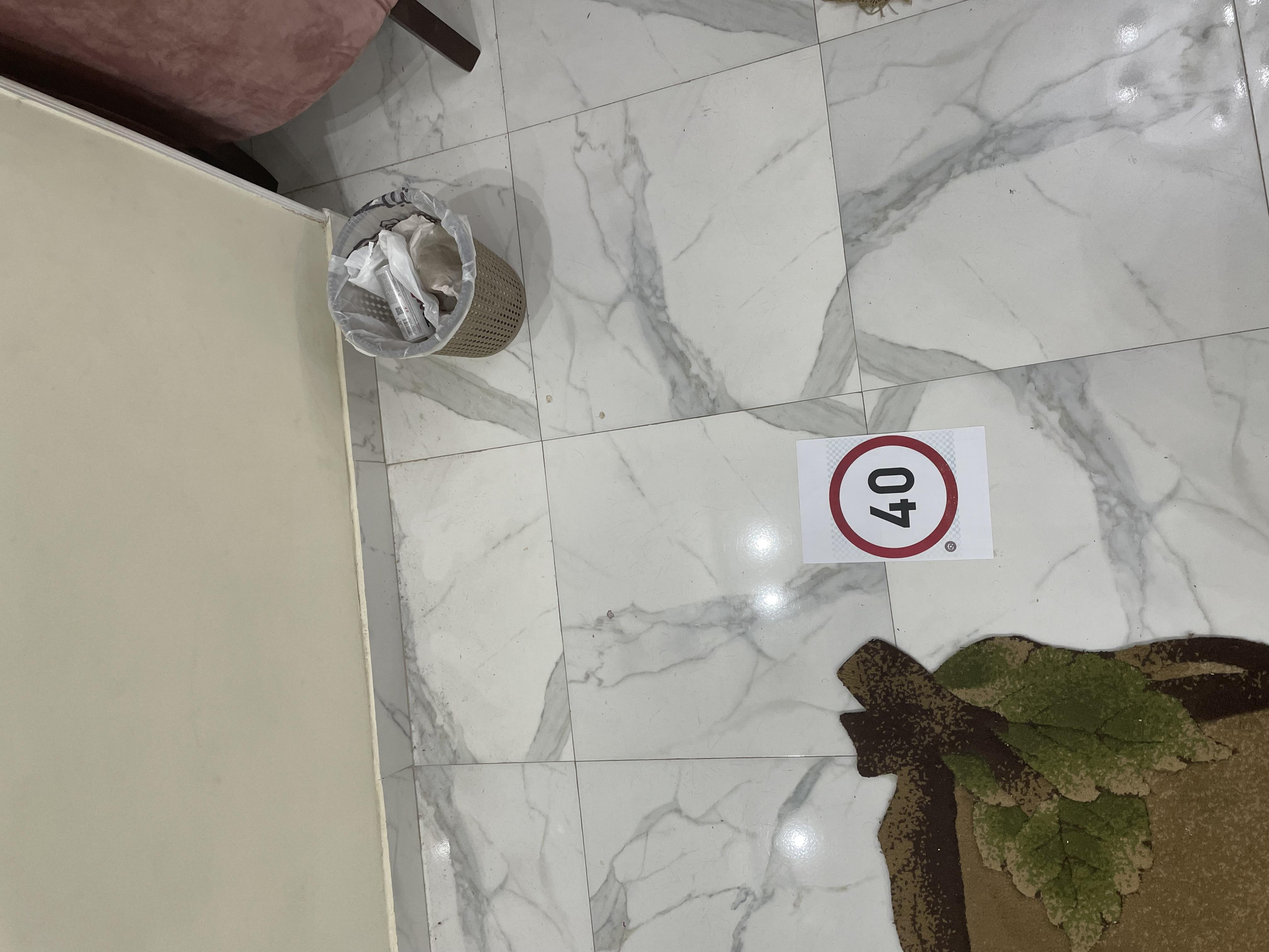40-Speed: (523, 620, 698, 720)
